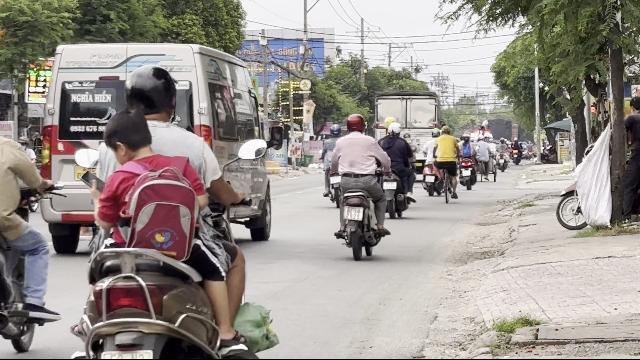helmet: (123, 64, 179, 118), (344, 113, 366, 133)
licenseplate: (343, 206, 363, 221)
motorcyclist: (65, 63, 278, 355), (324, 112, 391, 258)
nohelmet: (100, 108, 154, 166)
